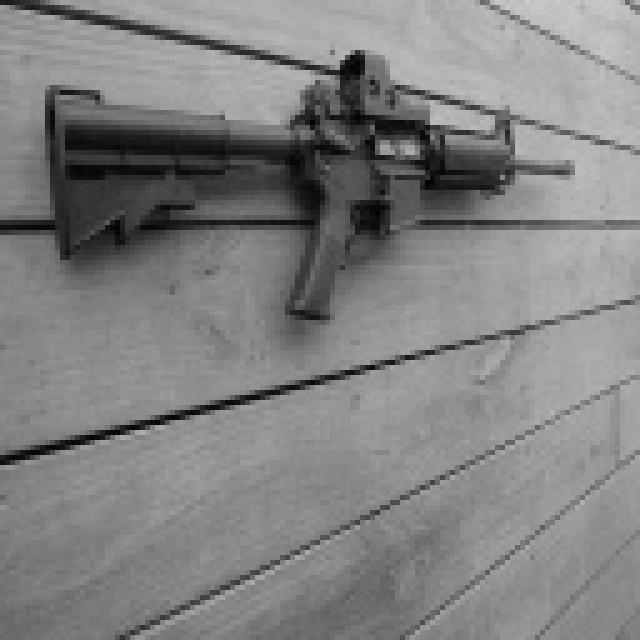Rifle: (0, 0, 575, 335)
